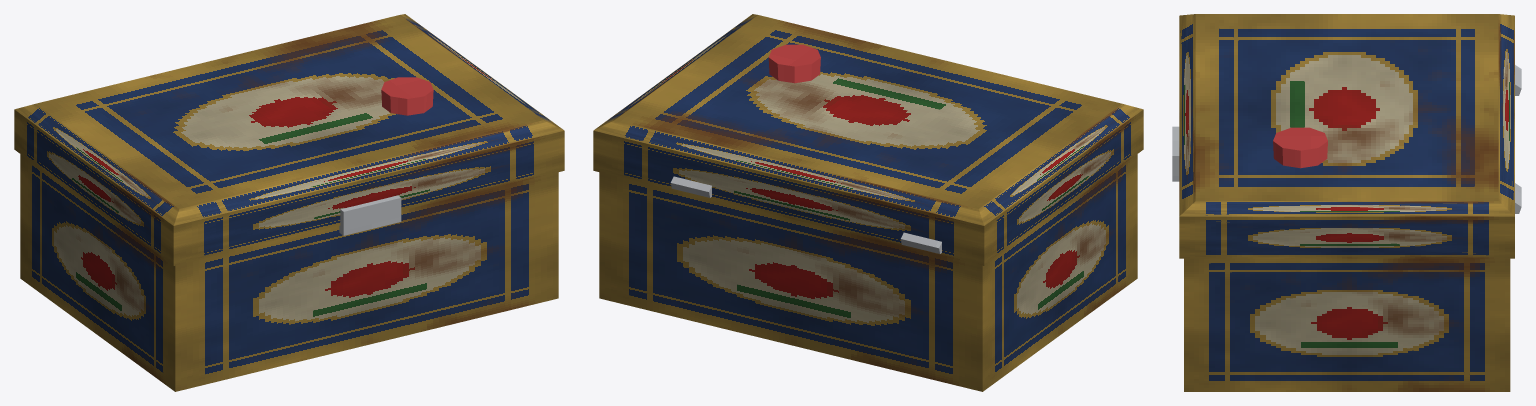
The model's file is item_tin_box.glb.
The picture shows the model from 3 angles, left to right: view 1: azimuth 30°, elevation 25°; view 2: azimuth 150°, elevation 25°; view 3: azimuth 270°, elevation 25°; orthographic projection. The views are drawn at different scales.
Visible parts, largest first — view 1: tin; view 2: tin; view 3: tin.
Boxes of the visible parts, x1,y1,x2,y2 form: tin: (14,14,564,391); tin: (593,14,1143,391); tin: (1172,14,1521,391).
Size of the model in its own units: 0.204 by 0.0965 by 0.1499.
Materials: 3 (3 with a texture image).
